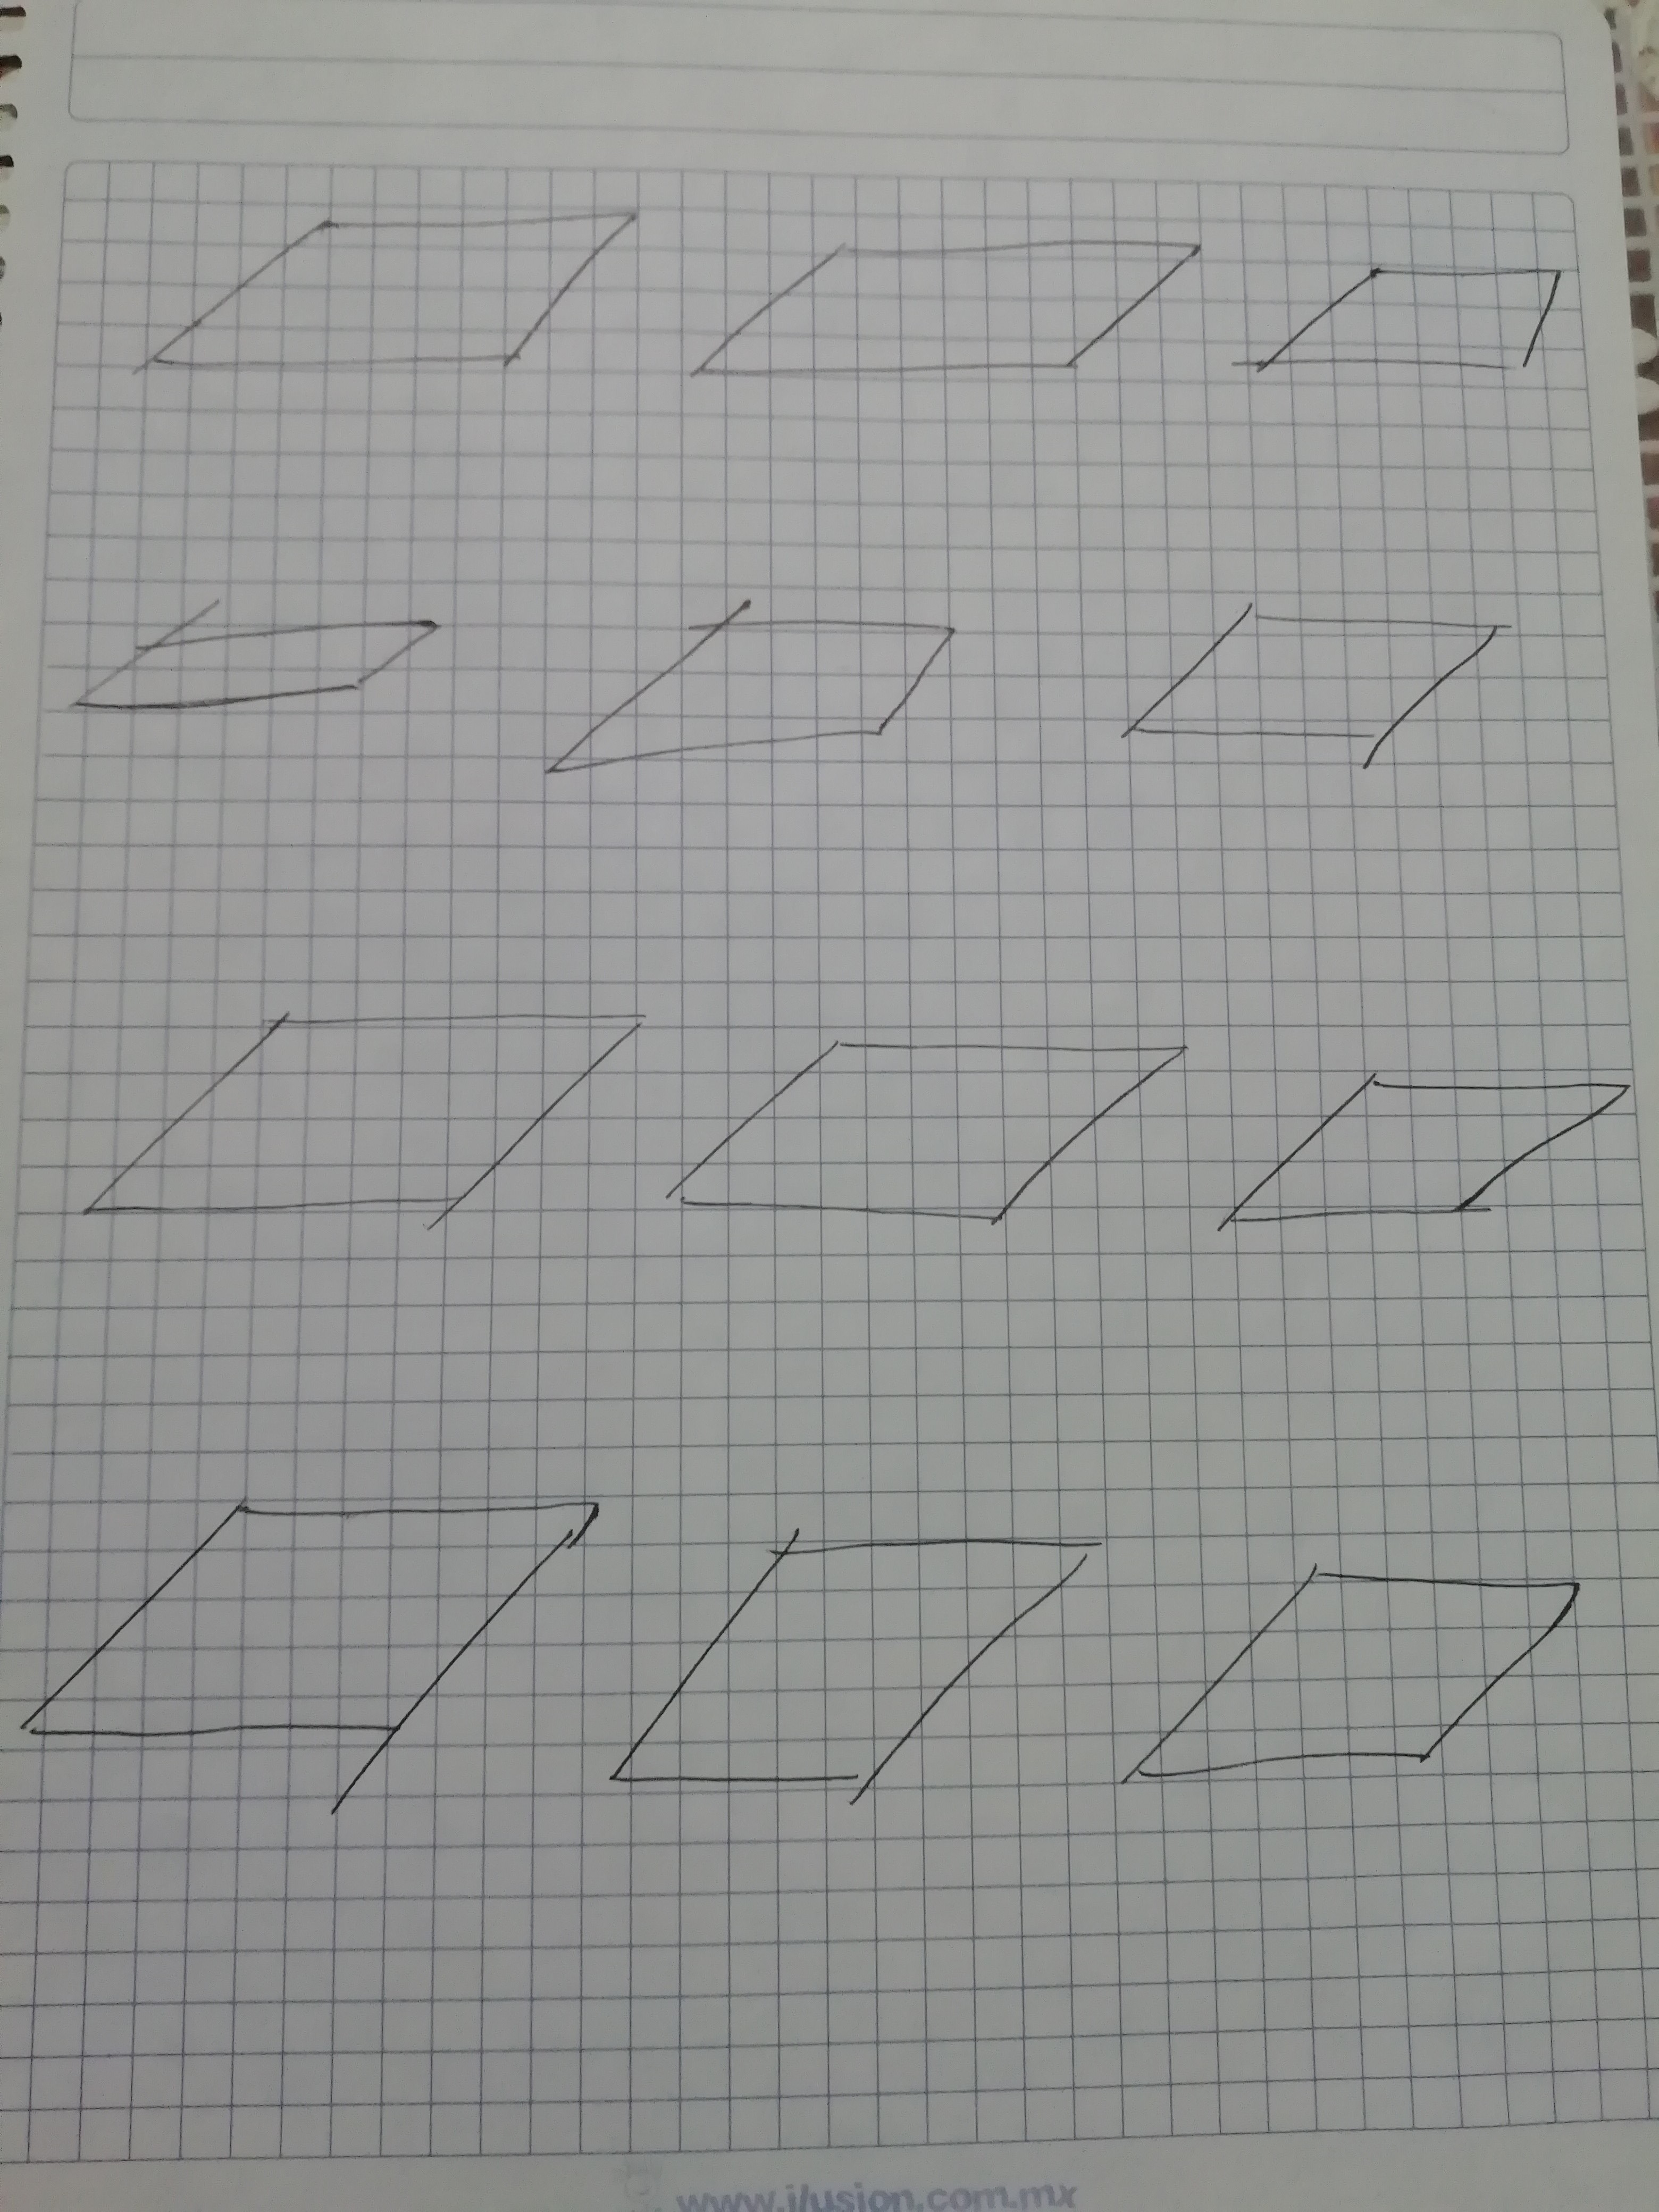scan: (2, 1432, 608, 1862), (54, 963, 657, 1280), (612, 1479, 1112, 1850), (660, 996, 1208, 1277), (1108, 1541, 1636, 1818), (122, 171, 667, 425), (688, 202, 1222, 435), (1209, 1014, 1659, 1277), (516, 571, 983, 815), (1072, 575, 1547, 801), (33, 556, 458, 768), (1232, 216, 1586, 421)
